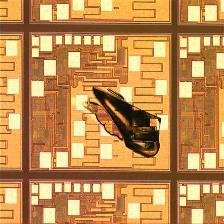PARTICLE: (80, 82, 166, 161)
